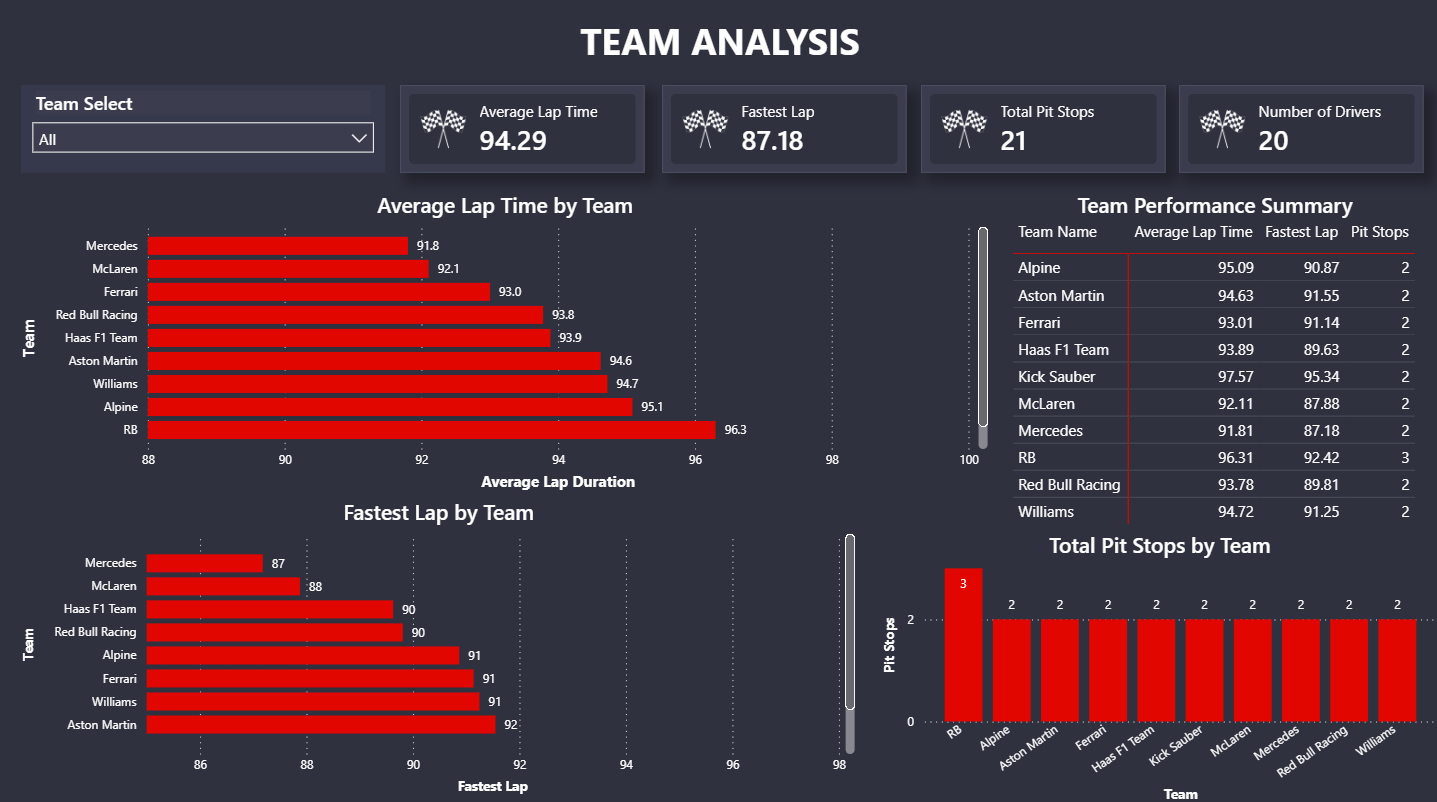

Layout of this report page (visuals, bound fields, positions):
{"tool":"powerbi","page":{"name":"Team Analysis","canvas":[1280,720],"ordinal":2},"visuals":[{"type":"clusteredBarChart","title":"Average Lap Time by Team","fields":{"Y":["Avg(laps_clean.Lap Duration)"],"Category":["race_summary.team_name"]},"box":[16.6,172.2,865.6,271.7],"z":0},{"type":"cardVisual","title":"Avg. Lap Duration","fields":{"Data":["Avg(laps_clean.Lap Duration)"]},"box":[356.4,79,217.3,78.1],"z":1000},{"type":"cardVisual","fields":{"Data":["Min(race_summary.fastest_lap)"]},"box":[588.7,79,217.3,78.1],"z":2000},{"type":"cardVisual","fields":{"Data":["Sum(race_summary.pit_stops)"]},"box":[818.2,79,217.3,78.1],"z":3000},{"type":"cardVisual","fields":{"Data":["Count(race_summary.driver_number)"]},"box":[1046.8,79,217.3,78.1],"z":4000},{"type":"clusteredBarChart","title":"Fastest Lap by Team","fields":{"Y":["Min(race_summary.fastest_lap)"],"Category":["race_summary.team_name"]},"box":[16.6,443.9,747.7,268.9],"z":5000},{"type":"slicer","fields":{"Values":["race_summary.full_name"]},"box":[20.7,79,322.6,78.1],"z":6000},{"type":"textbox","box":[258.6,12.2,762.7,89.3],"z":7000},{"type":"clusteredColumnChart","title":"Total Pit Stops by Team","fields":{"Y":["Sum(race_summary.pit_stops)"],"Category":["race_summary.team_name"]},"box":[780,473.3,500,246.8],"z":8000},{"type":"pivotTable","title":"Team Performance Summary","fields":{"Rows":["drivers_clean.team_name"],"Values":["Avg(race_summary.avg_lap_time)","Min(race_summary.fastest_lap)","Sum(race_summary.pit_stops)"]},"box":[895.1,172.2,369.3,301.1],"z":9000}]}

Visuals, with their boxes in screenshot pixels (x1, y1, x2, y2), scaled from the page's 1280x720 canvas onto the 1437x802 screenshot:
"Average Lap Time by Team" clusteredBarChart: 19 192 990 494
"Avg. Lap Duration" cardVisual: 400 88 644 175
cardVisual - Min(race_summary.fastest_lap): 661 88 905 175
cardVisual - Sum(race_summary.pit_stops): 919 88 1163 175
cardVisual - Count(race_summary.driver_number): 1175 88 1419 175
"Fastest Lap by Team" clusteredBarChart: 19 494 858 794
slicer - race_summary.full_name: 23 88 385 175
textbox: 290 14 1147 113
"Total Pit Stops by Team" clusteredColumnChart: 876 527 1436 801
"Team Performance Summary" pivotTable: 1005 192 1419 527
